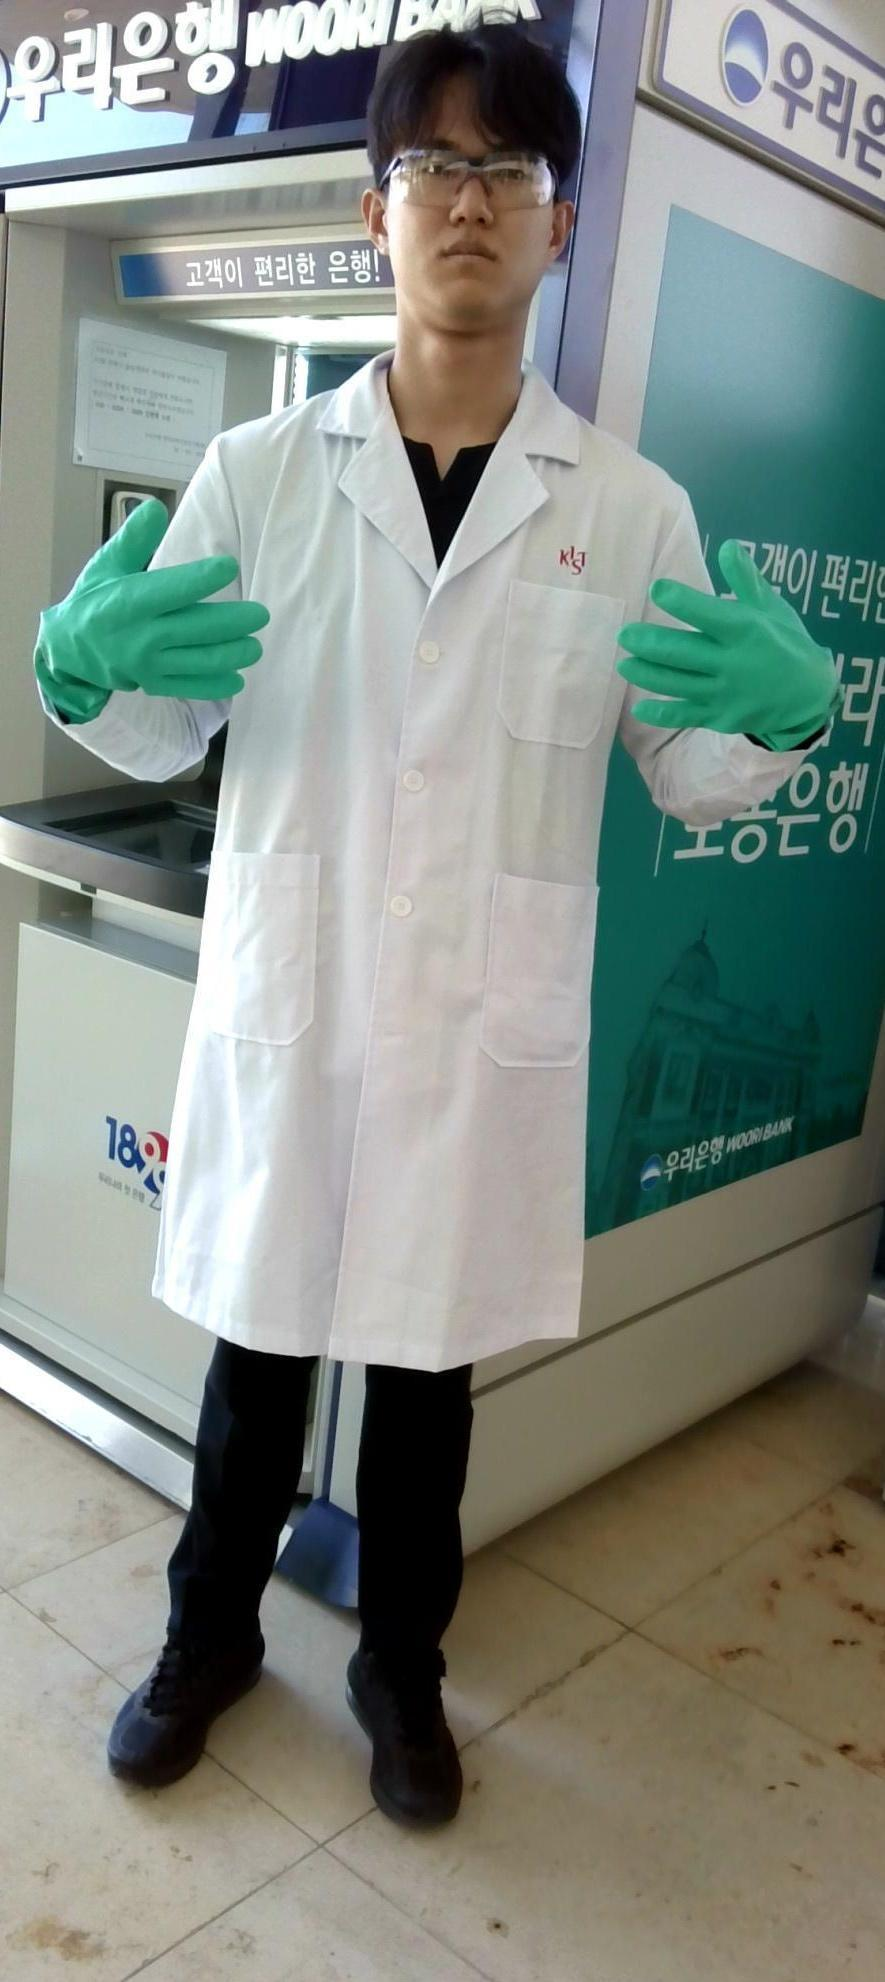lab_coat: (206, 418, 606, 1339)
